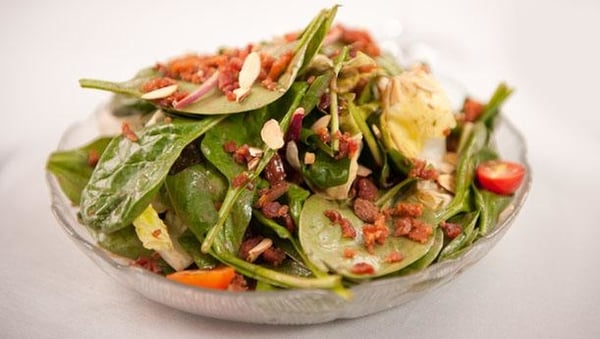pizza: (166, 267, 235, 291)
